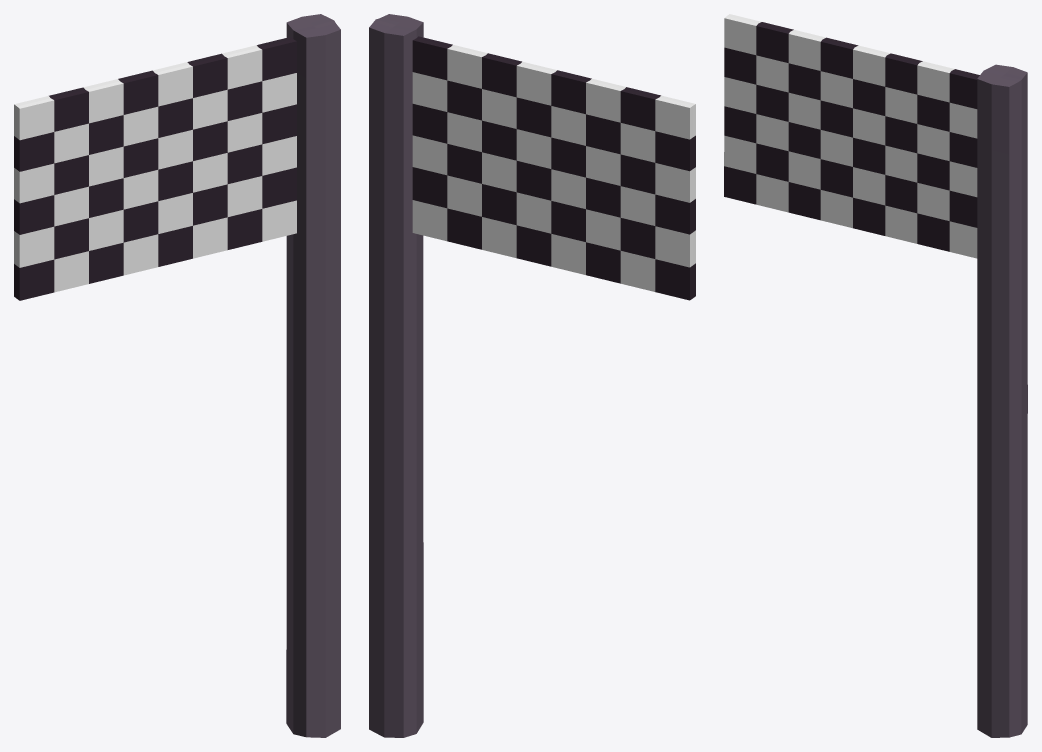
Rendered from BanderaDeLlegadaProyecto (1).fbx.
The picture shows the model from 3 angles, left to right: view 1: azimuth 30°, elevation 25°; view 2: azimuth 150°, elevation 25°; view 3: azimuth 330°, elevation 25°; orthographic projection. The views are drawn at different scales.
Visible parts, largest first — view 1: Cube; view 2: Cube; view 3: Cube.
Part boxes in pixels (<box>): Cube: <box>14,14,340,737</box>; Cube: <box>369,14,695,737</box>; Cube: <box>724,14,1027,737</box>.
Size of the model in its own units: 440 by 933 by 57.07.
